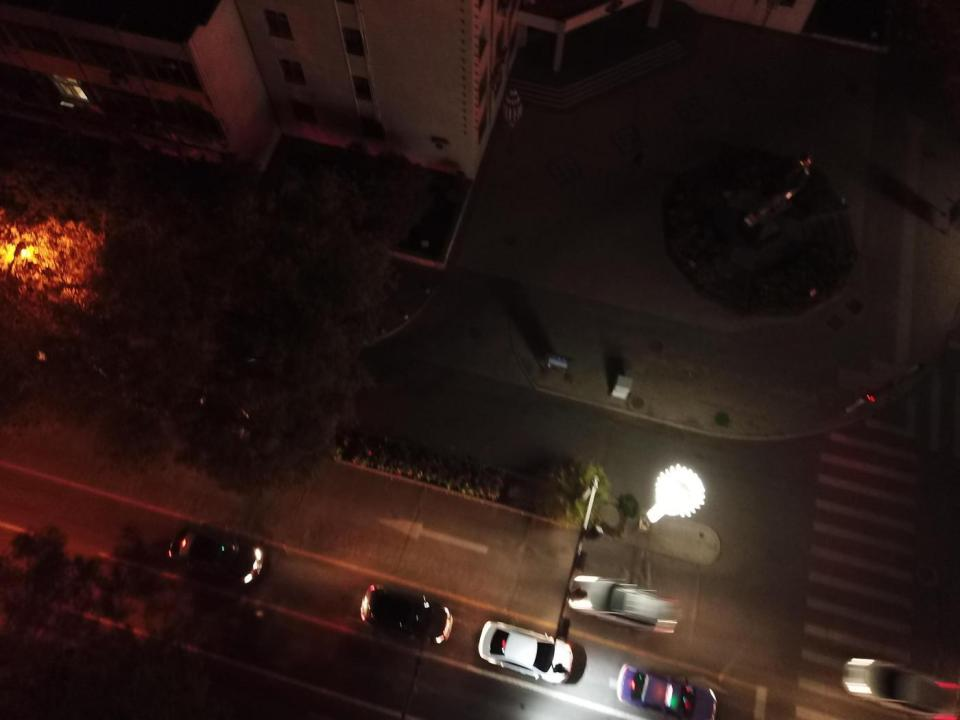car: (842, 657, 960, 719), (567, 575, 679, 633), (477, 620, 573, 683), (617, 662, 715, 720), (360, 585, 453, 645), (167, 526, 264, 583), (190, 392, 249, 420)
